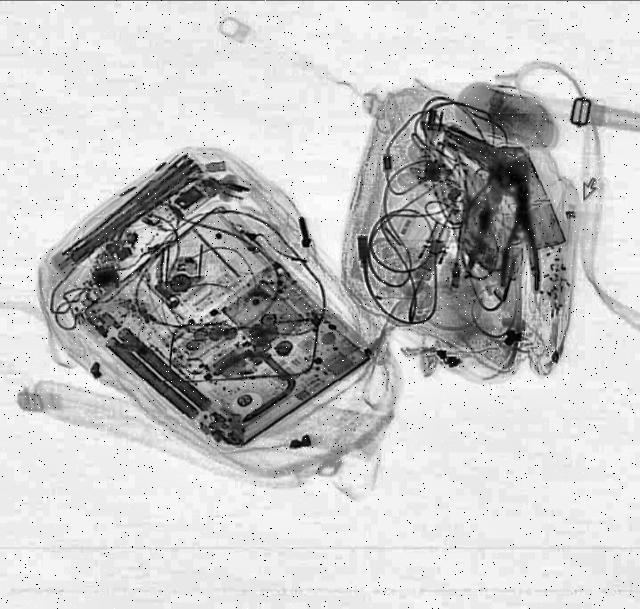Pliers: (496, 180, 544, 292)
